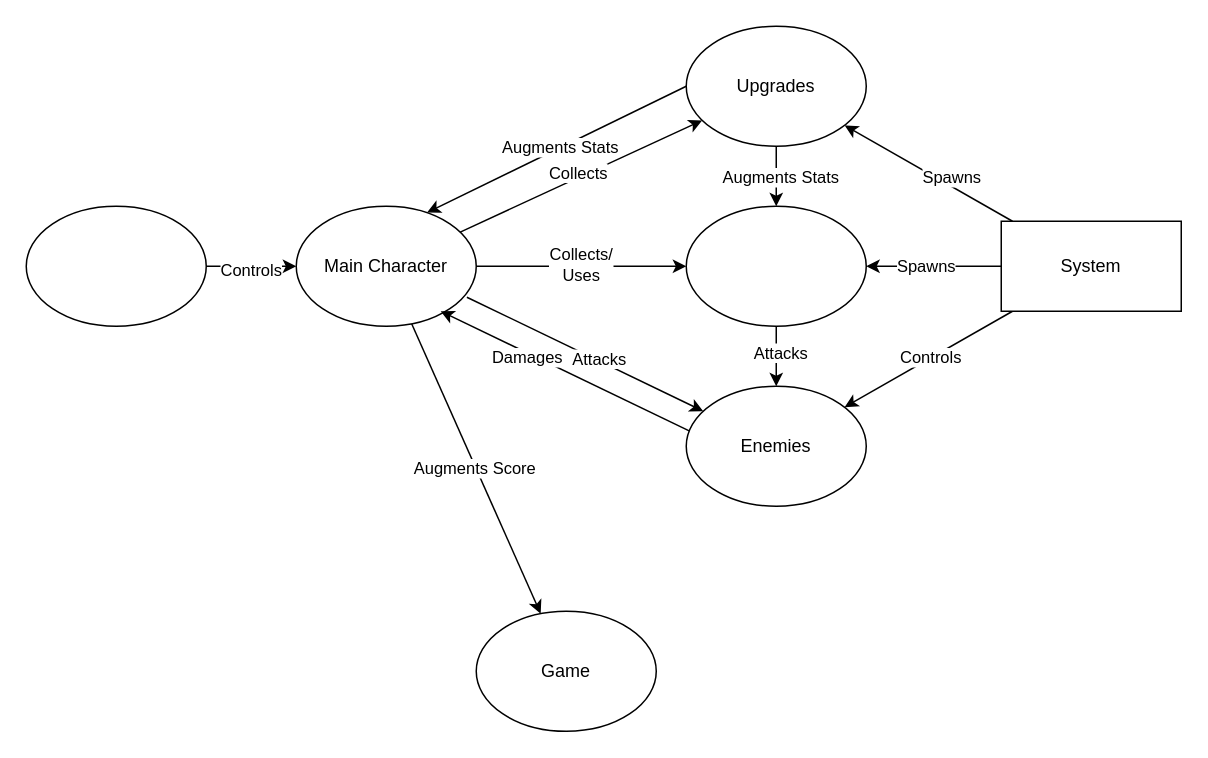
Some shapes in this 1208 by 758 pixel diagram are drawn without their labels. The centre of each missing label's shape, as x and y in pixels:
Abilities: point 775,265
Player: point 115,265
